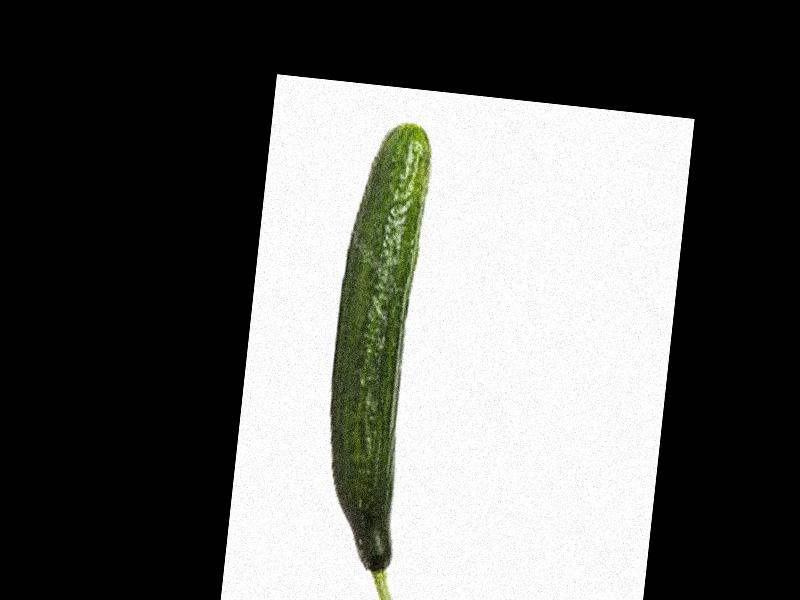Cucumber: (307, 120, 454, 600)
